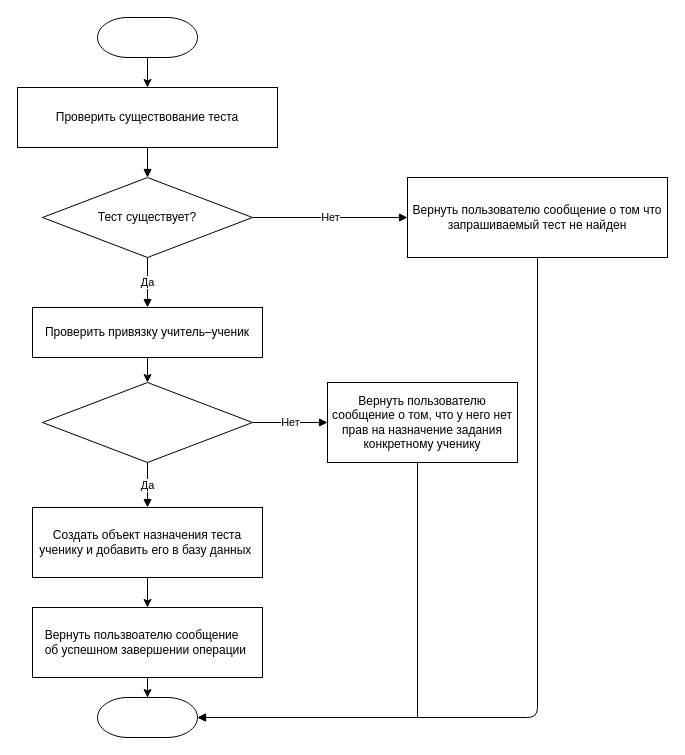
Some shapes in this 685 by 755 pixel diagram are drawn without their labels. Here are the shapes that lost their labels. From the top down, the box of each, then its label:
(96, 16, 198, 58): Начало
(42, 382, 252, 462): Привязка есть?
(96, 696, 198, 738): Конец
